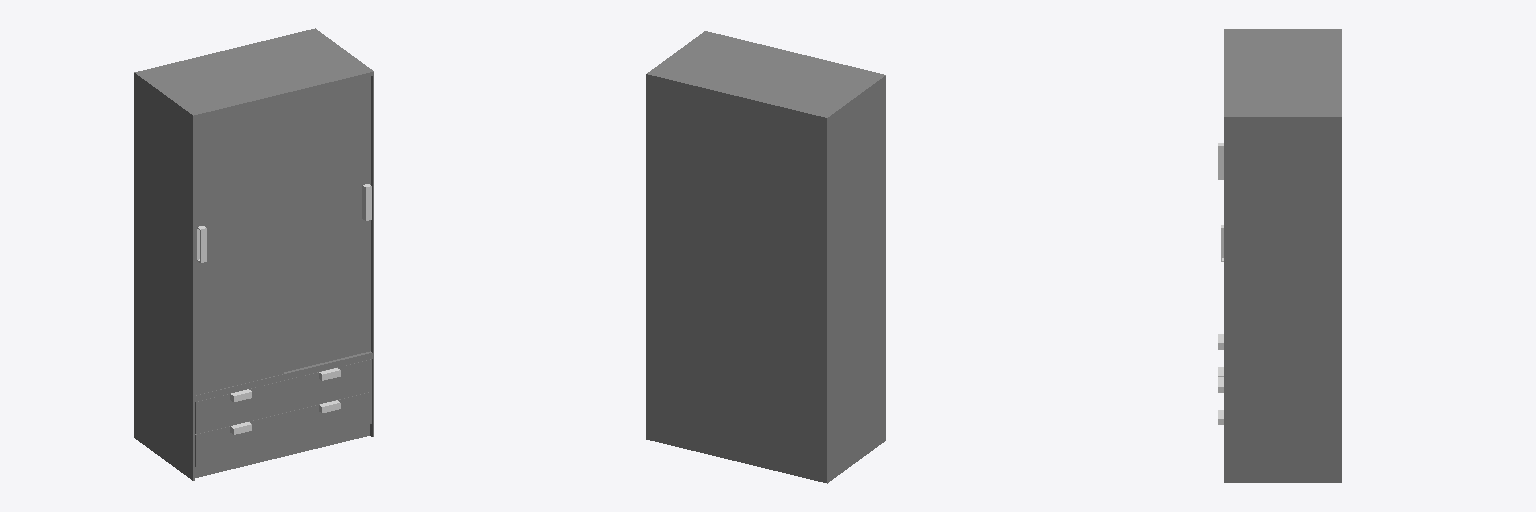
The model's file is roperom.obj.
The picture shows the model from 3 angles: view 1: azimuth 30°, elevation 25°; view 2: azimuth 150°, elevation 25°; view 3: azimuth 270°, elevation 25°; orthographic projection.
Parts seen in each view (by area): view 1: base01, door_01, door_02, edges1, drawer_02, drawer_03, drawer_01, drawer_04; view 2: base01, edges1; view 3: base01.
Part boxes in pixels (left/top/right/bottom): base01: left=134, top=29, right=371, bottom=480; door_01: left=195, top=98, right=283, bottom=395; door_02: left=284, top=77, right=370, bottom=371; edges1: left=134, top=28, right=373, bottom=480; drawer_02: left=195, top=413, right=283, bottom=466; drawer_03: left=195, top=381, right=283, bottom=433; drawer_01: left=284, top=392, right=371, bottom=444; drawer_04: left=284, top=359, right=371, bottom=412; base01: left=648, top=31, right=885, bottom=483; edges1: left=646, top=31, right=885, bottom=482; base01: left=1224, top=30, right=1341, bottom=482.
Size of the model in its own units: 18.27 by 35.24 by 10.9.